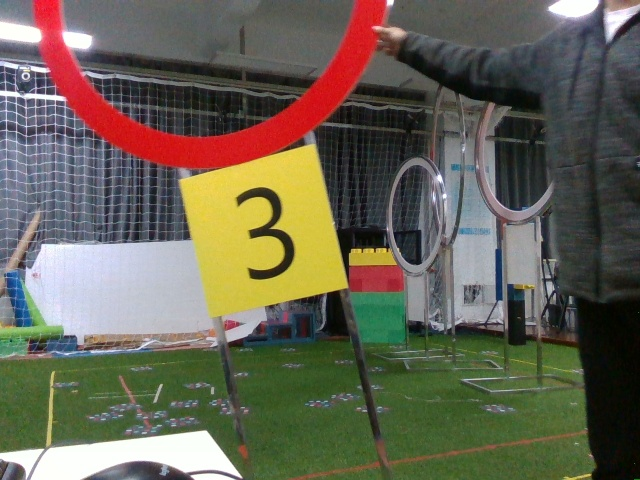target: (197, 170, 326, 298)
